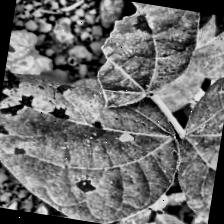ALS: (0, 12, 199, 224), (90, 0, 200, 115), (172, 46, 224, 224)
